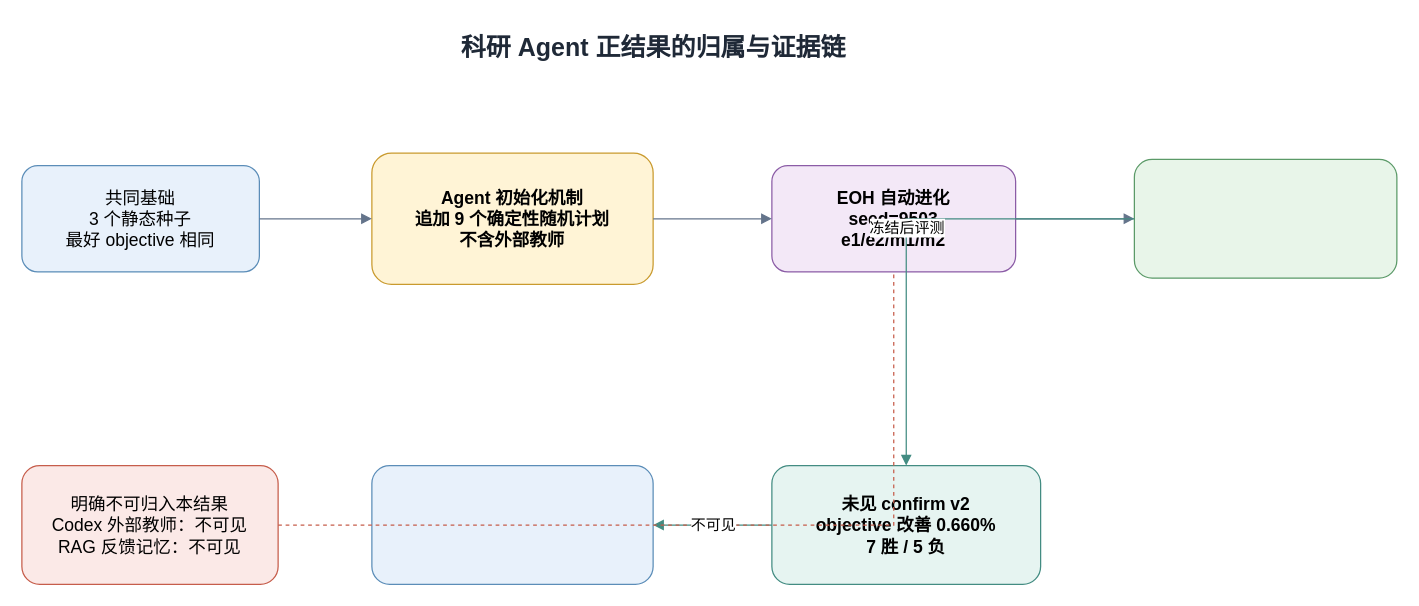
The diagram is 1419 pixels wide and 606 high, and some of its shapes have lost their labels. The shapes that lost their labels are listed below. From the top down, each one's centre as x and y in pixels, then its label:
At (x=1265, y=218): "Agent 自主新候选 dev v2 改善 0.390% 不是输入种子".
At (x=512, y=524): "冻结正式资产 actor=research_agent_eoh commit 5528804".
